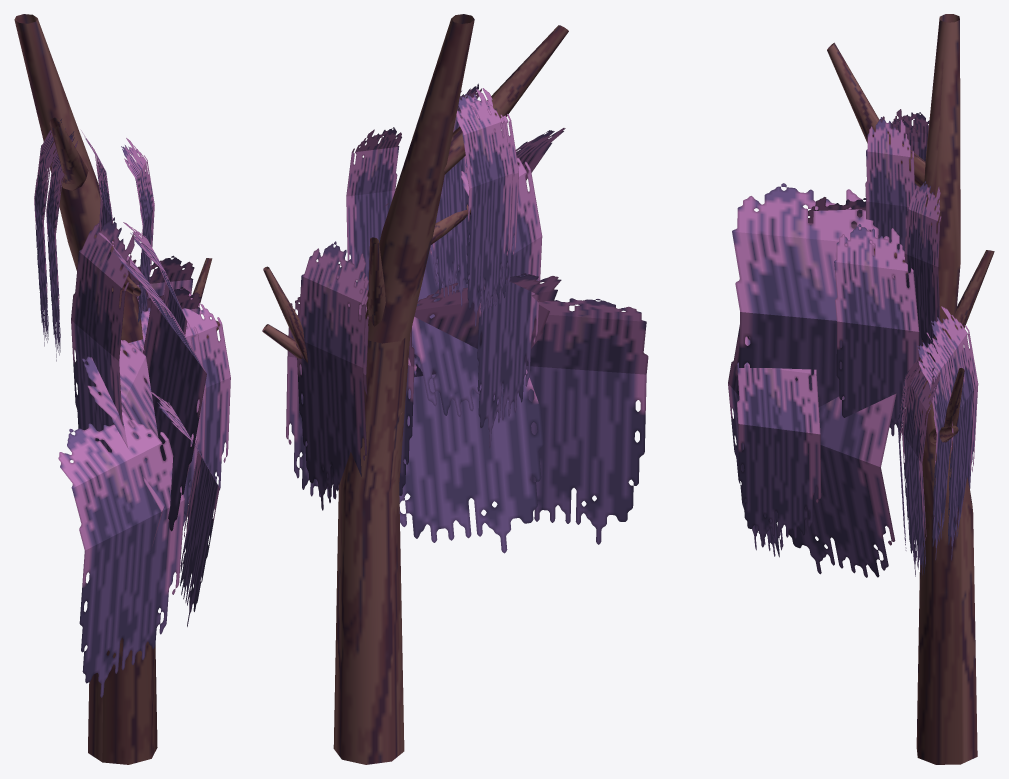
File: WellowTree.fbx
The picture shows the model from 3 angles, left to right: view 1: azimuth 30°, elevation 25°; view 2: azimuth 150°, elevation 25°; view 3: azimuth 270°, elevation 25°; orthographic projection. The views are drawn at different scales.
Visible parts, largest first — view 1: MellowTree; view 2: MellowTree; view 3: MellowTree.
Part boxes in pixels (<box>): MellowTree: <box>14,14,230,764</box>; MellowTree: <box>262,14,648,764</box>; MellowTree: <box>728,14,994,764</box>.
Size of the model in its own units: 412 by 369 by 966.
